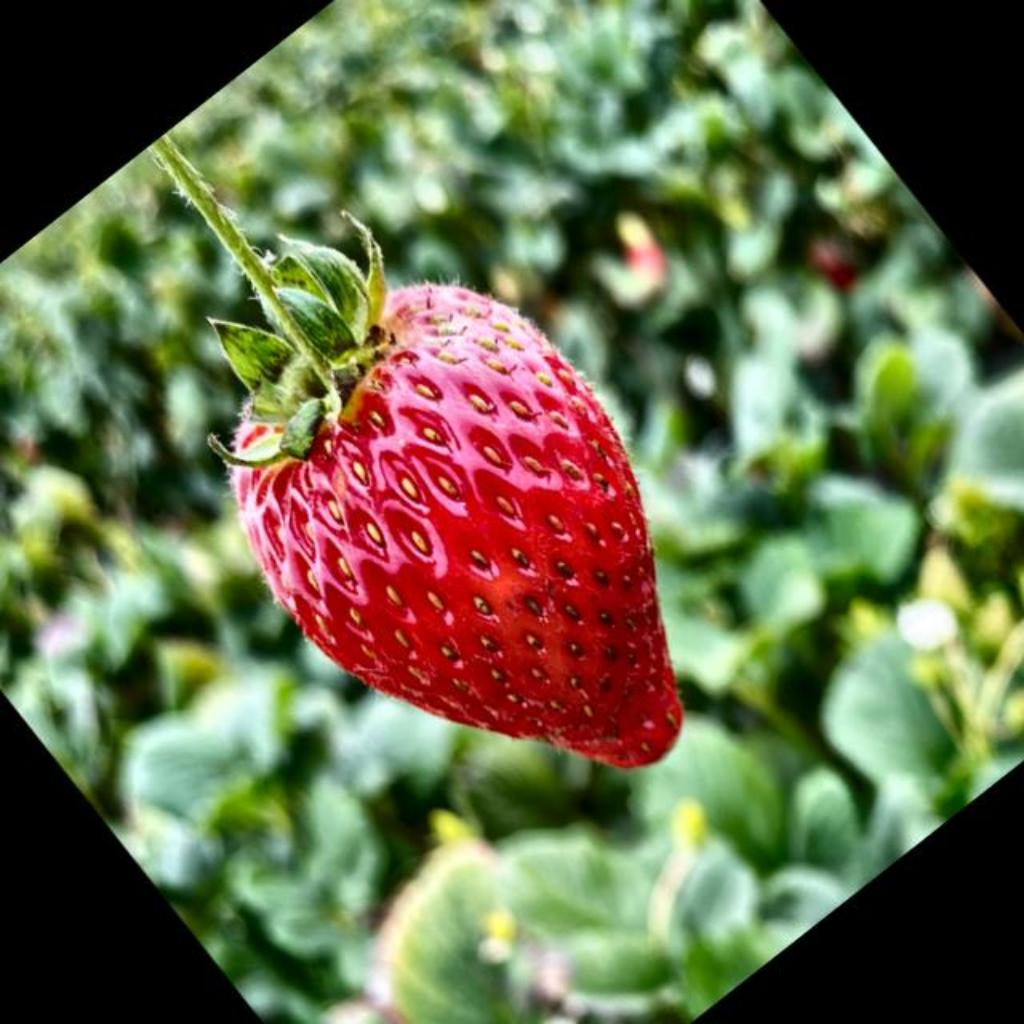strawberry: (154, 138, 682, 766)
